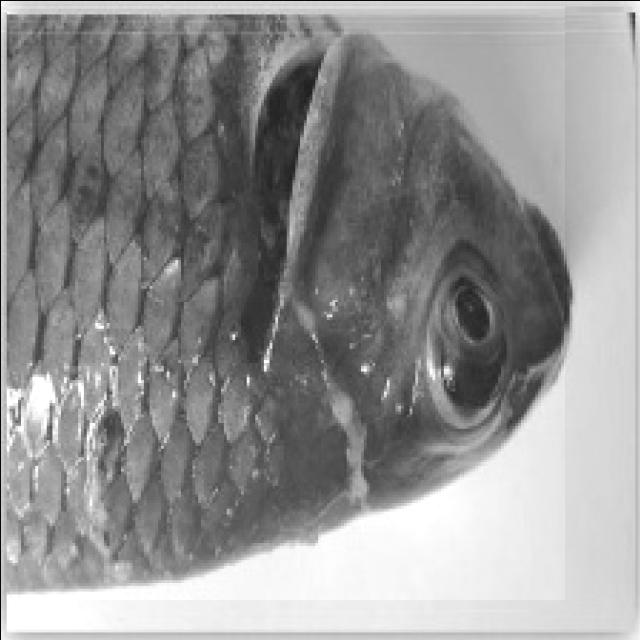Gill Disease: (6, 4, 564, 598)
